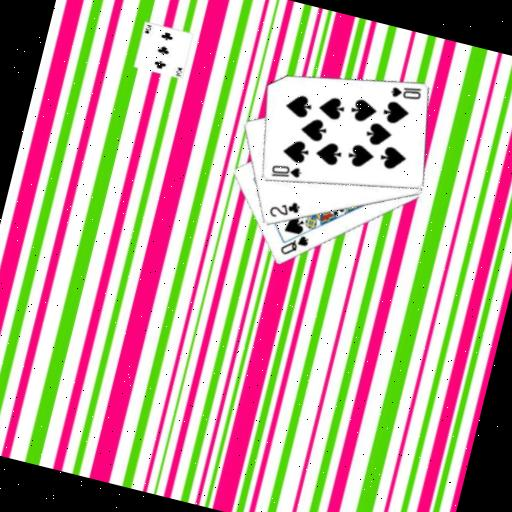10S: (267, 158, 305, 185), (386, 79, 424, 105)
2C: (265, 194, 302, 225)
QS: (276, 228, 312, 262)
